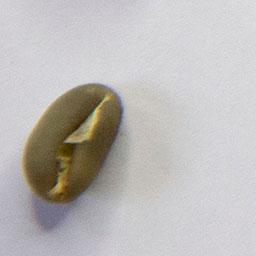peaberry: (18, 77, 127, 208)
